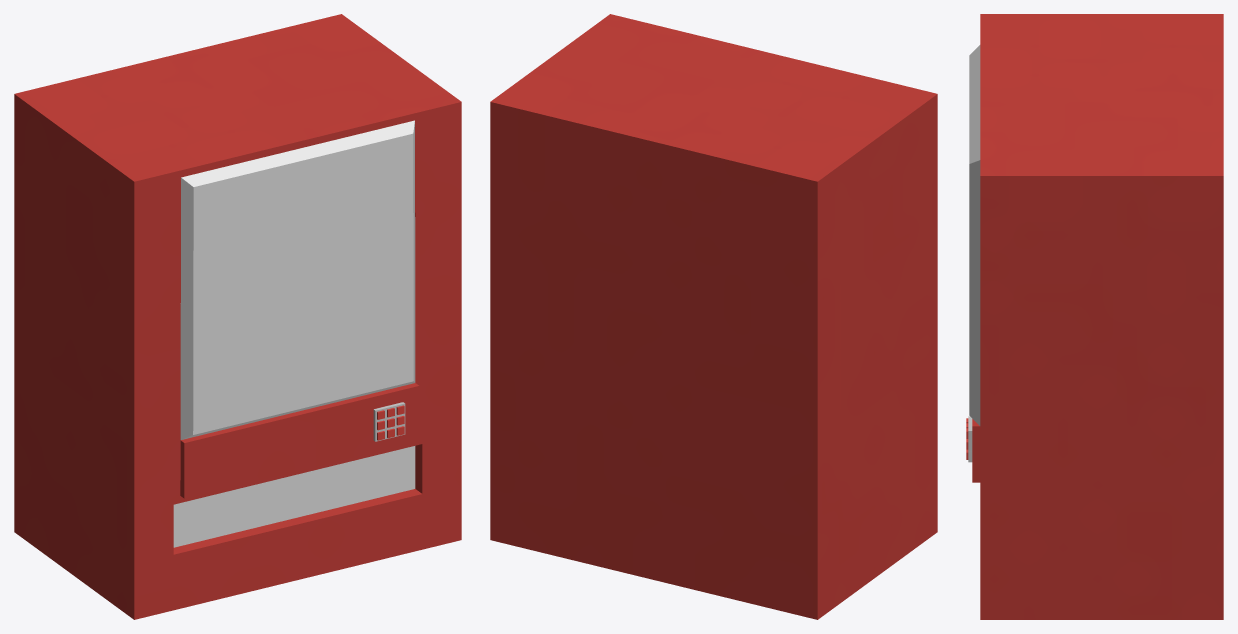
The model's file is Vending_Machine_02.fbx.
3 views of the same model, side by side, from view 1: azimuth 30°, elevation 25°; view 2: azimuth 150°, elevation 25°; view 3: azimuth 270°, elevation 25° (orthographic).
Visible parts, largest first — view 1: Vending_Machine_02, Vending_Machine_Window.001, Vending_Machine_Button.001; view 2: Vending_Machine_02; view 3: Vending_Machine_02, Vending_Machine_Window.001.
Boxes of the visible parts, x1,y1,x2,y2 form: Vending_Machine_02: (14, 14, 461, 619); Vending_Machine_Window.001: (180, 120, 415, 439); Vending_Machine_Button.001: (373, 402, 405, 441); Vending_Machine_02: (490, 14, 937, 619); Vending_Machine_02: (972, 14, 1223, 619); Vending_Machine_Window.001: (969, 45, 980, 425).
Bounding box in the file's own units: 1.64 × 2.09 × 1.1.
